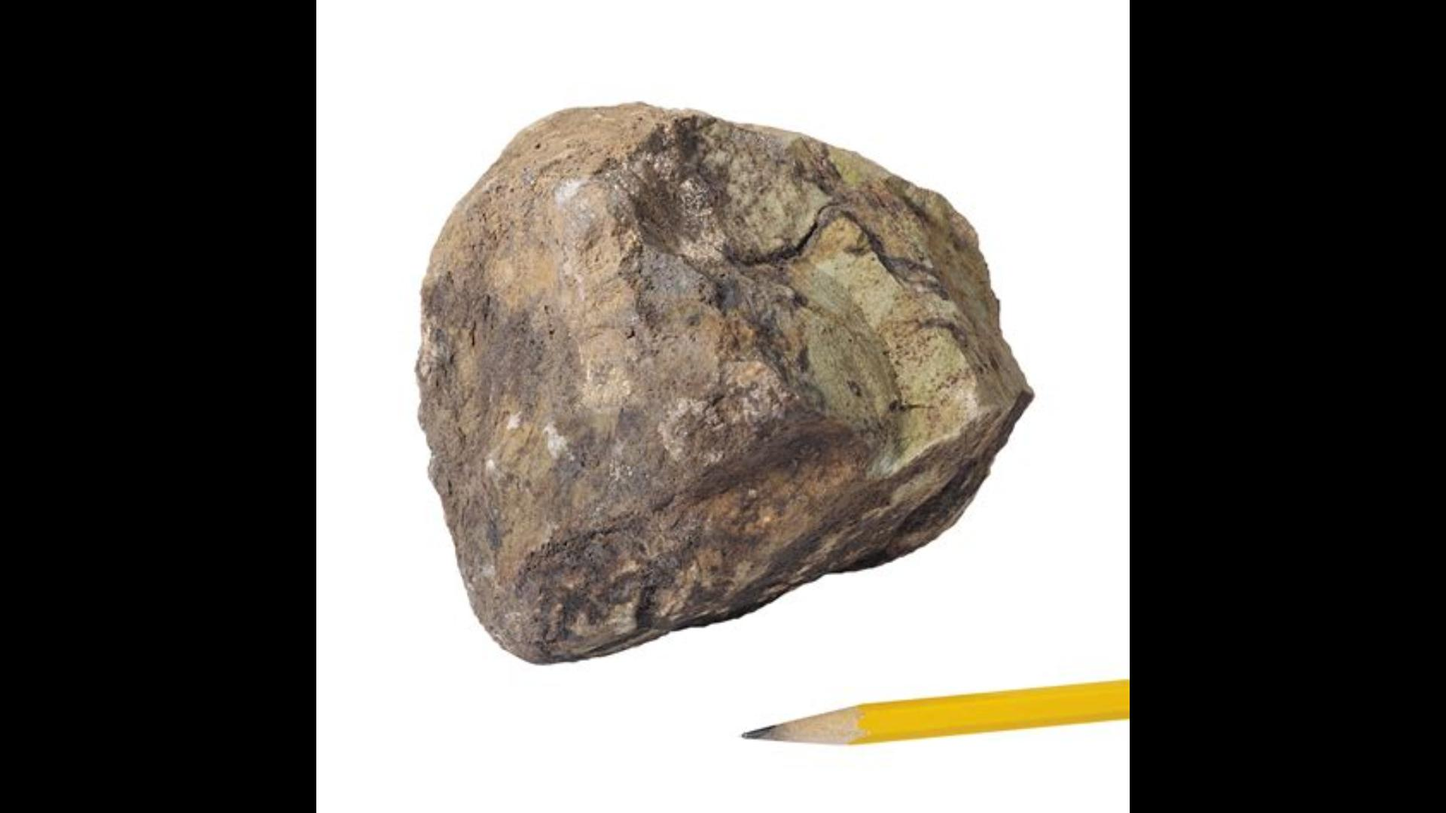rock: (418, 108, 1032, 660)
